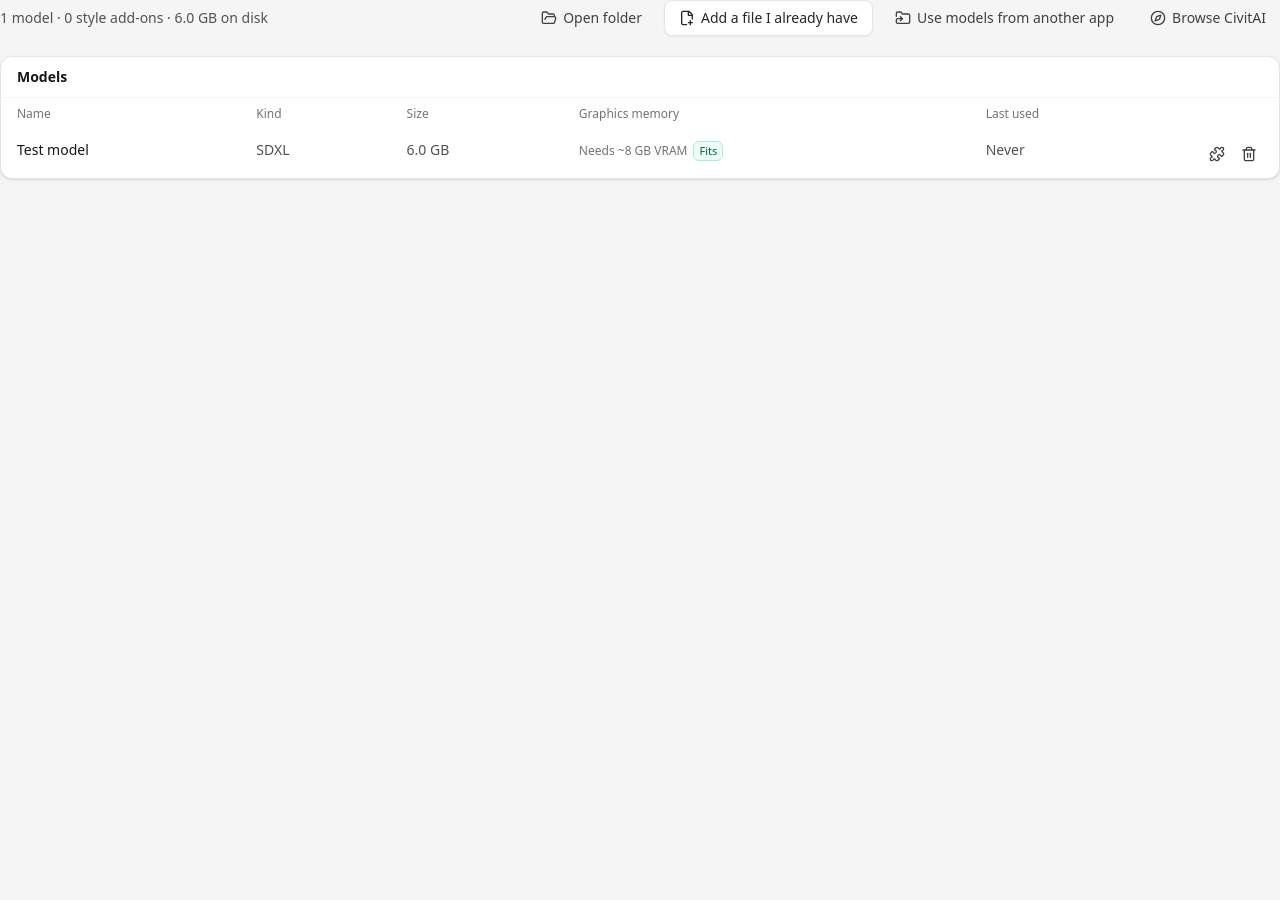
Scenario: InstalledView › offers Try again when the delete check fails
Click the button named "Delete Test model" at {"x": 1249, "y": 154}, box [1235,140,1263,168]
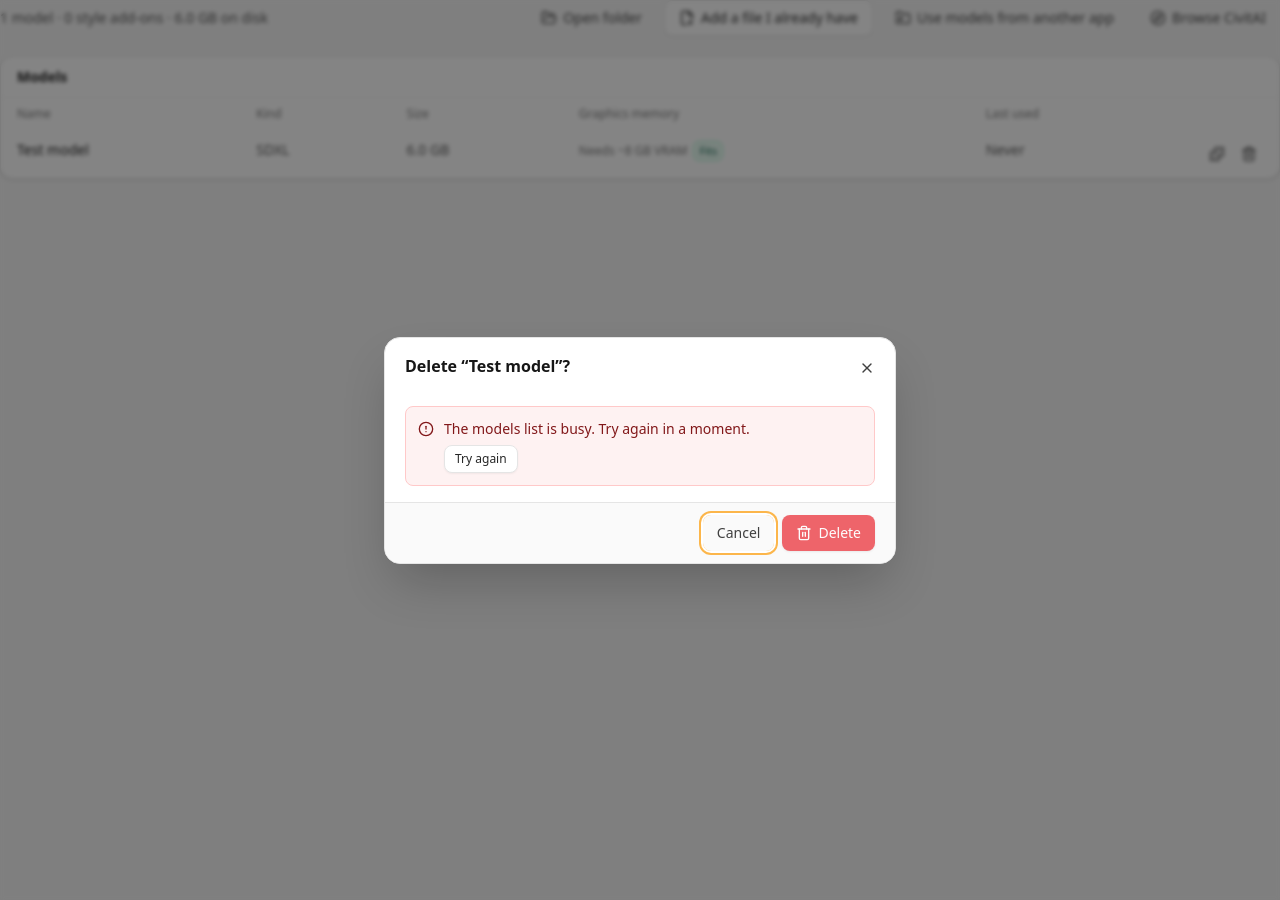
Click the button "Try again" at {"x": 481, "y": 458}, box [444,444,518,472]
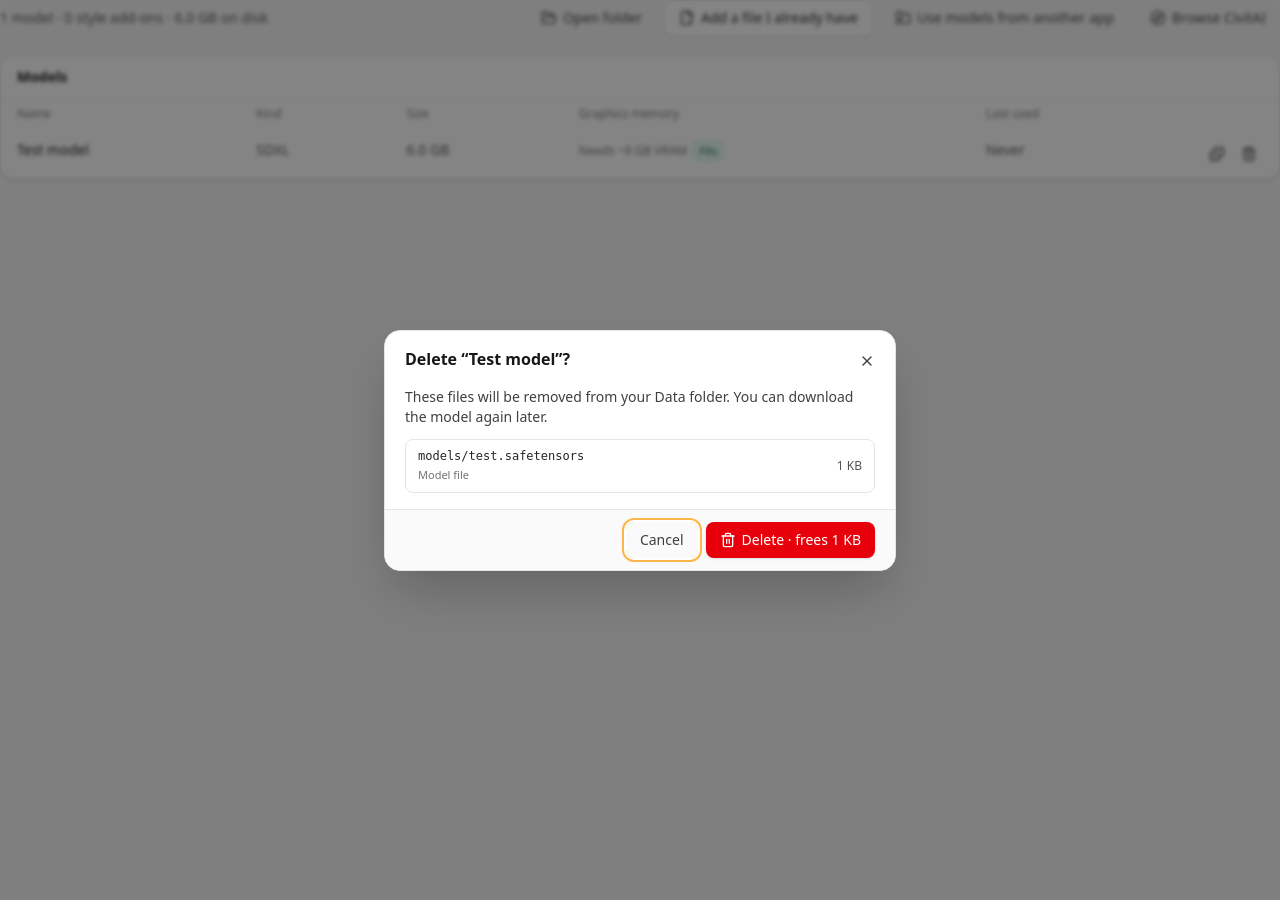
Expected: the text "models/test.safetensors" is shown, [418,448,584,462]
Expected: the text "Try again" is gone
